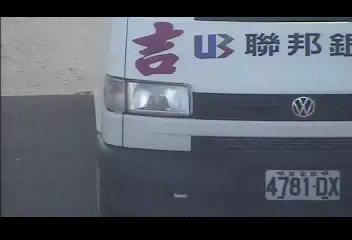plate: (263, 167, 344, 203)
